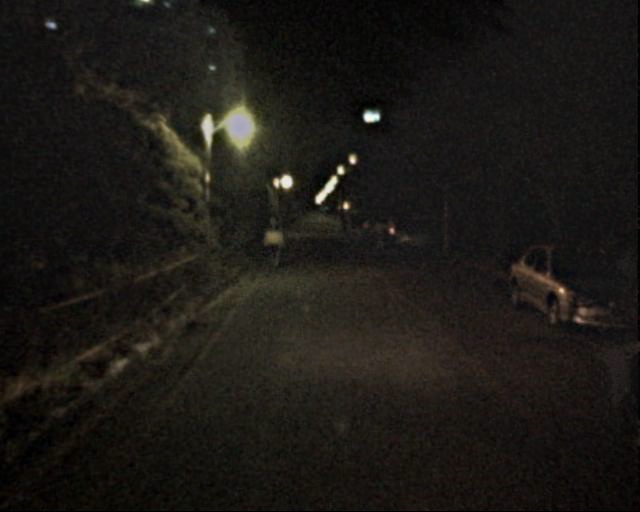person: (600, 256, 640, 435), (261, 214, 283, 268), (372, 218, 388, 256), (341, 217, 360, 239)
